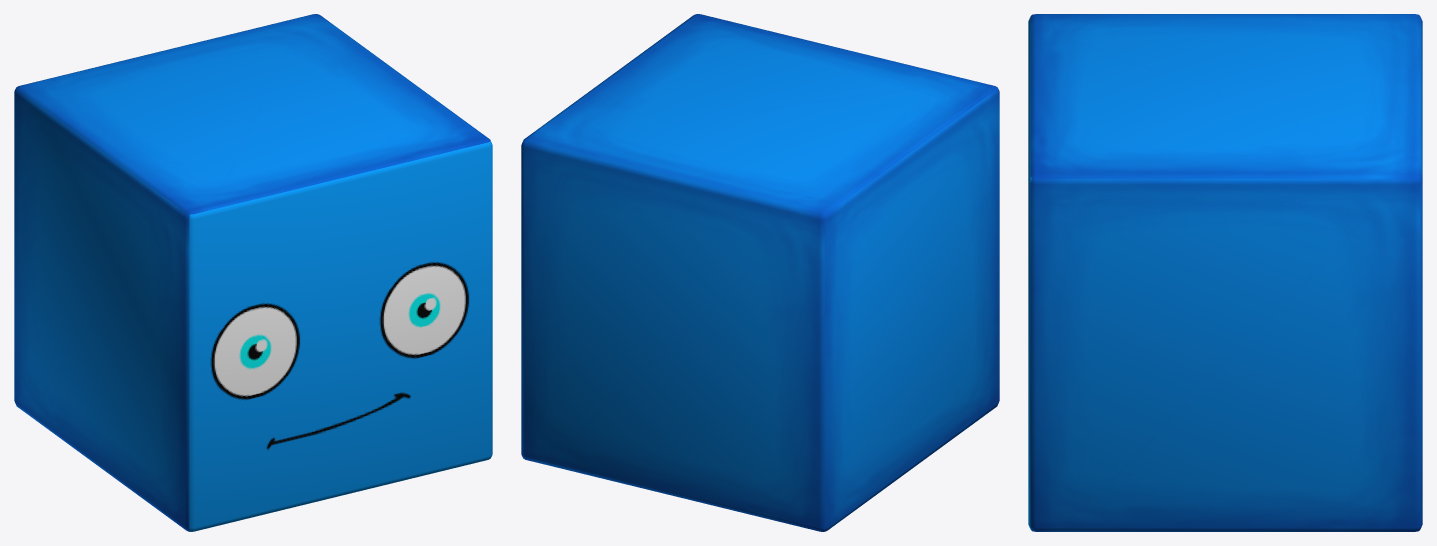
File: Basic_Cube.FBX
3 views of the same model, side by side, from view 1: azimuth 30°, elevation 25°; view 2: azimuth 150°, elevation 25°; view 3: azimuth 270°, elevation 25° (orthographic). The views are drawn at different scales.
Parts seen in each view (by area): view 1: Basic_Cube; view 2: Basic_Cube; view 3: Basic_Cube.
Part boxes in pixels (x1=…): Basic_Cube: x1=14, y1=14, x2=492, y2=531; Basic_Cube: x1=521, y1=14, x2=999, y2=531; Basic_Cube: x1=1028, y1=14, x2=1422, y2=531.
Size of the model in its own units: 100 by 100 by 100.
2 materials, 2 textured.
